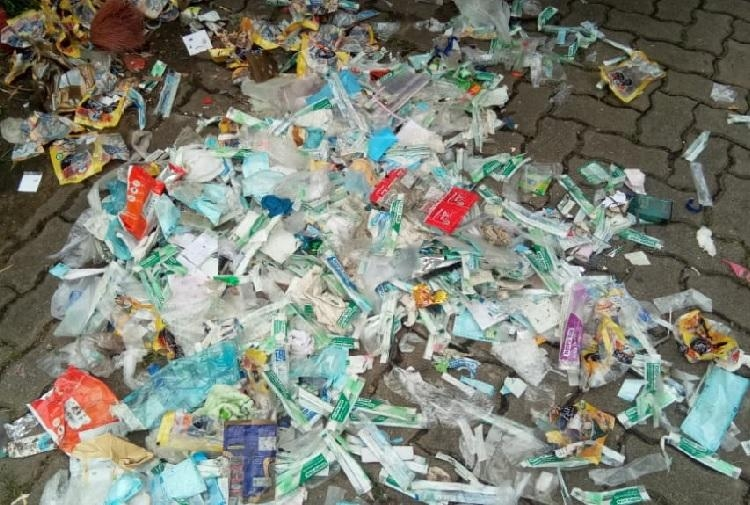plastic: (24, 367, 125, 439), (678, 363, 749, 450), (217, 418, 282, 500), (596, 45, 667, 104), (668, 430, 743, 480), (122, 165, 165, 242), (324, 251, 373, 316), (70, 79, 131, 130), (49, 133, 108, 184), (324, 374, 368, 431), (572, 484, 658, 504), (620, 224, 669, 253)
